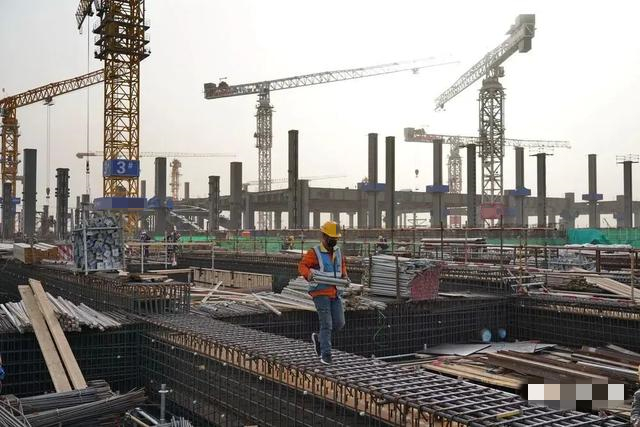helmet: (320, 221, 342, 238)
person: (298, 218, 351, 368)
scaffold: (361, 254, 439, 299)
vest: (312, 245, 342, 296)
wood: (1, 296, 116, 336)
